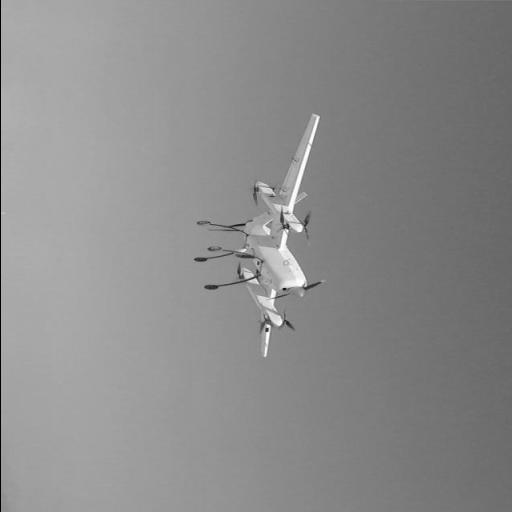uav: (200, 114, 324, 360)
